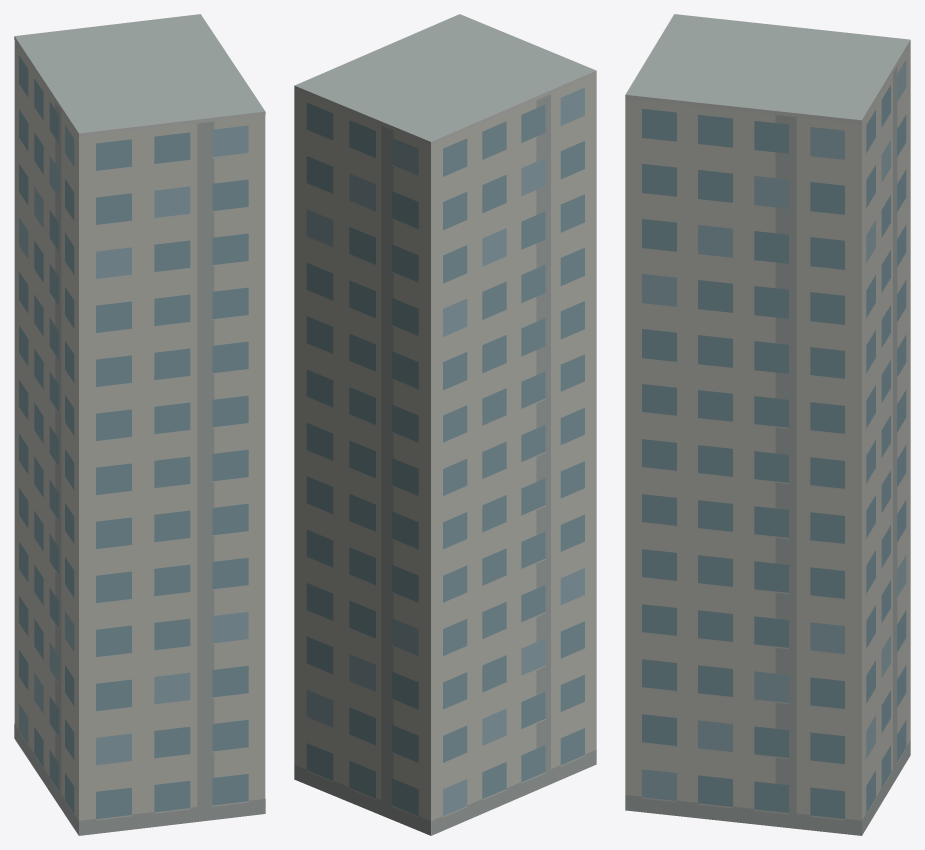
The model's file is residential-0b390191-2f12-4e02-a4c6-4165ad91de4a.glb.
3 views of the same model, side by side, from view 1: azimuth 30°, elevation 25°; view 2: azimuth 150°, elevation 25°; view 3: azimuth 270°, elevation 25° (orthographic). The views are drawn at different scales.
Parts seen in each view (by area): view 1: residential-0b390191-2f12-4e02-a4c6-4165ad91de4a.tmp; view 2: residential-0b390191-2f12-4e02-a4c6-4165ad91de4a.tmp; view 3: residential-0b390191-2f12-4e02-a4c6-4165ad91de4a.tmp.
Part boxes in pixels (x1,y1,x2,y2): residential-0b390191-2f12-4e02-a4c6-4165ad91de4a.tmp: (14, 14, 265, 835); residential-0b390191-2f12-4e02-a4c6-4165ad91de4a.tmp: (294, 14, 596, 835); residential-0b390191-2f12-4e02-a4c6-4165ad91de4a.tmp: (625, 14, 910, 835).
Size of the model in its own units: 14.02 by 44 by 15.91.
